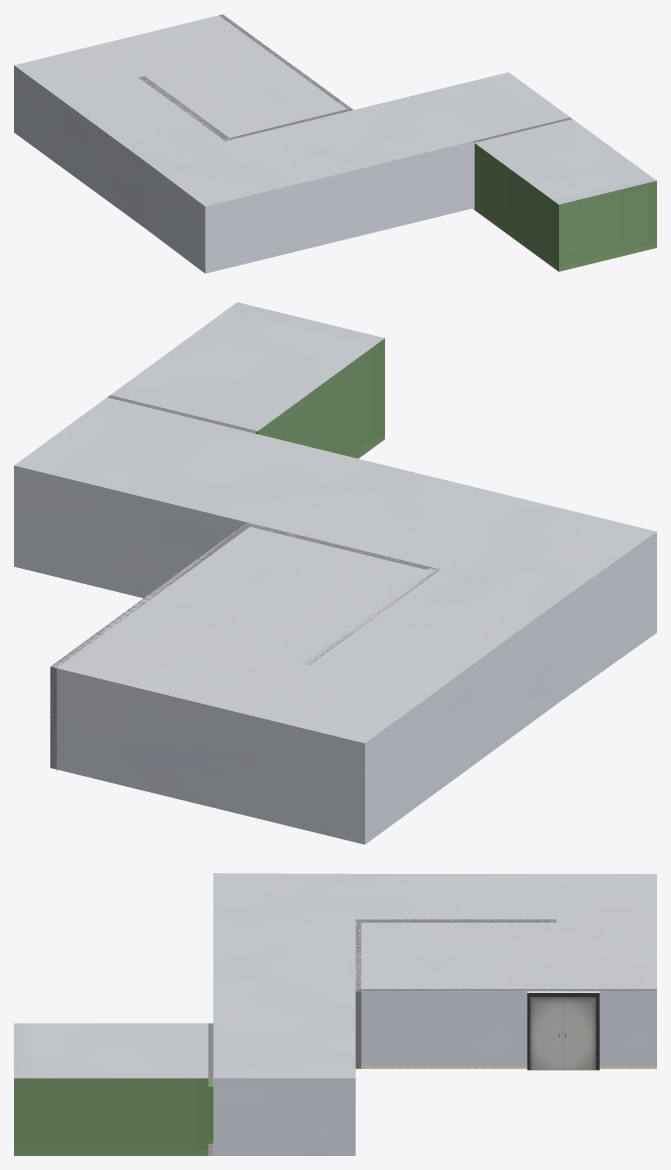
File: map_nostairs.FBX
3 views of the same model, one above another, from view 1: azimuth 30°, elevation 25°; view 2: azimuth 150°, elevation 25°; view 3: azimuth 270°, elevation 25° (orthographic). The views are drawn at different scales.
Visible parts, largest first — view 1: Box001; view 2: Box001; view 3: Box001.
Boxes of the visible parts, left/top/right/bottom form: Box001: left=14, top=14, right=656, bottom=273; Box001: left=14, top=302, right=656, bottom=844; Box001: left=14, top=873, right=656, bottom=1155.
Size of the model in its own units: 171 by 30.59 by 226.
7 materials, 5 textured.
